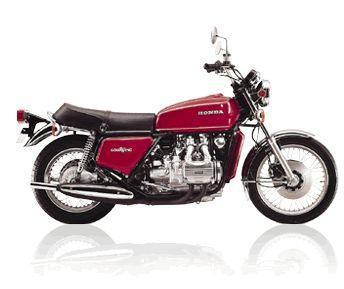motorcycle: (18, 23, 338, 229)
